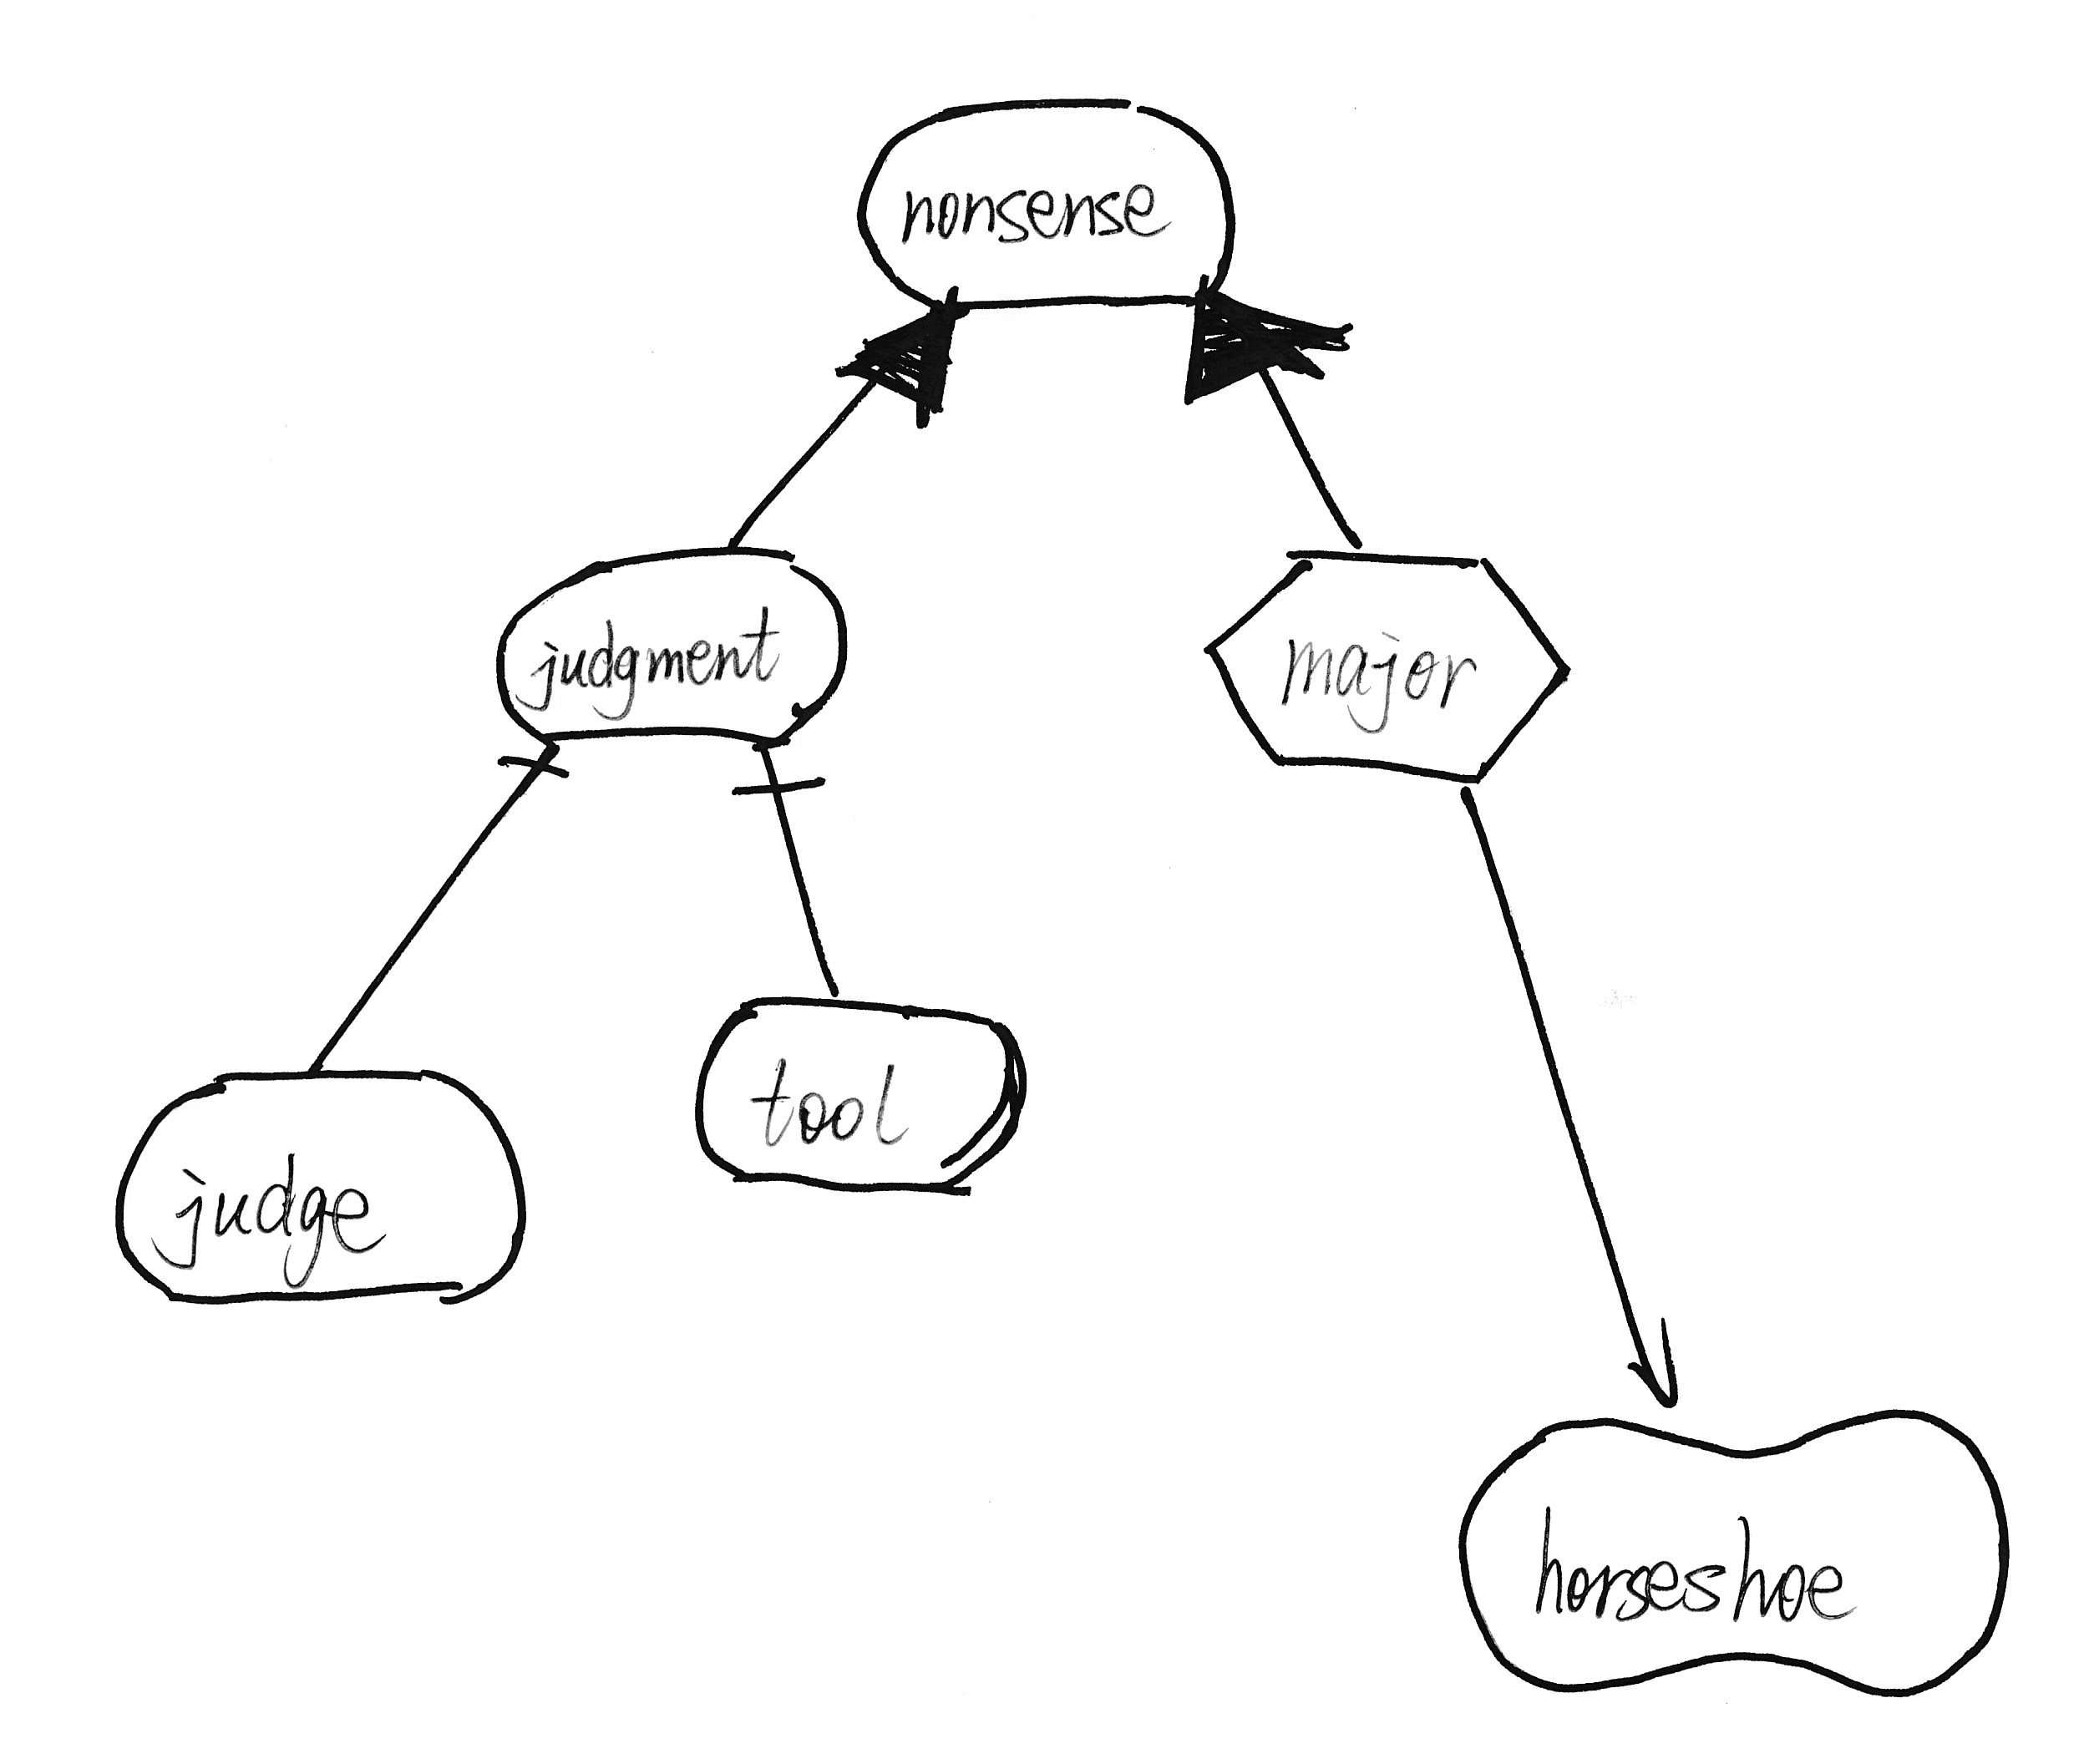and: (714, 747, 840, 829), (479, 731, 586, 808)
arrow: (1601, 1305, 1695, 1426)
goal: (94, 1050, 539, 1323), (841, 82, 1251, 322), (681, 978, 1044, 1220), (481, 532, 868, 754)
or: (1172, 269, 1372, 418), (826, 271, 988, 445)
quality: (1424, 1393, 2035, 1708)
task: (1188, 532, 1592, 805)
